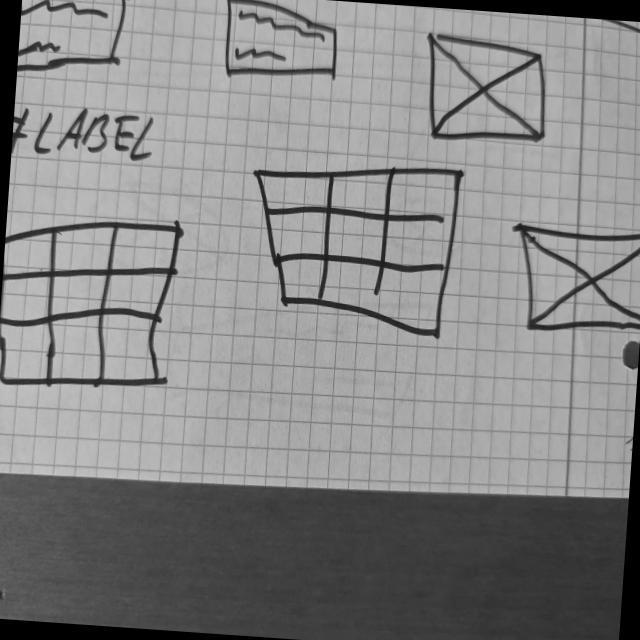image: (421, 29, 557, 151), (510, 217, 640, 342)
label: (12, 100, 158, 173)
table: (243, 153, 466, 341), (1, 212, 186, 399)
textarea: (219, 1, 344, 87), (17, 1, 130, 86)
